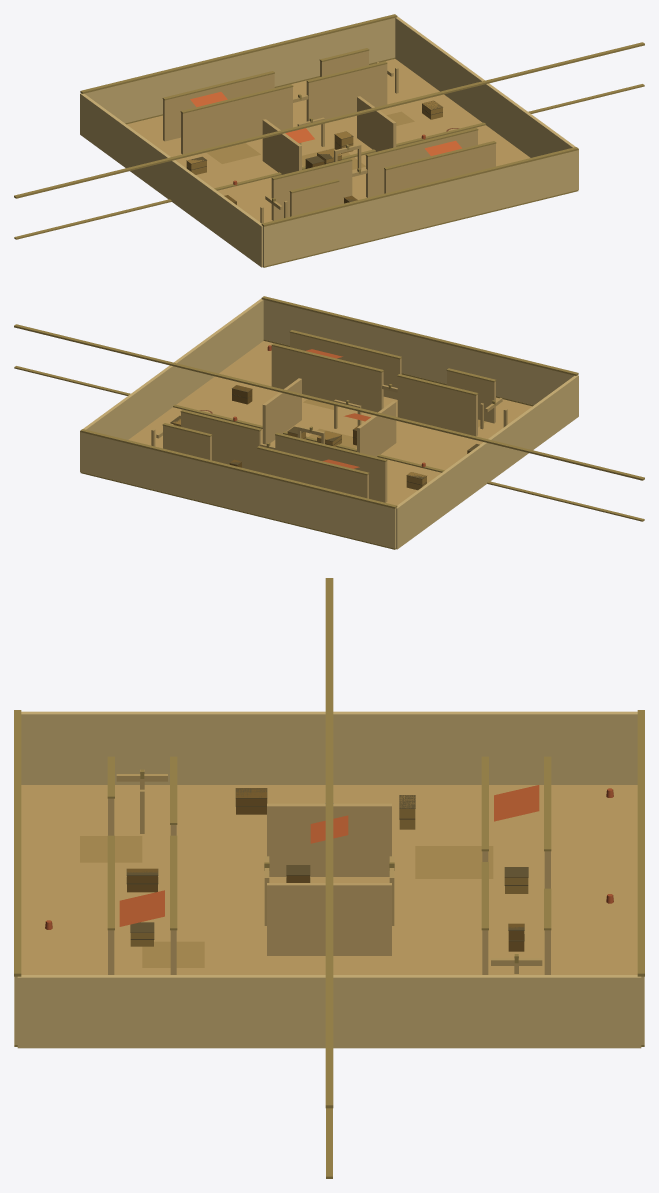
The model's file is dust_alley.glb.
The picture shows the model from 3 angles, top to bottom: view 1: azimuth 30°, elevation 25°; view 2: azimuth 150°, elevation 25°; view 3: azimuth 270°, elevation 25°; orthographic projection. The views are drawn at different scales.
Parts seen in each view (by area): view 1: wall_south, floor, wall_north, wall_west, wall_east, nalley_s_w, nalley_s_e, salley_s_e, salley_n_w, salley_n_e, nalley_n_w, center_w (+15 smaller); view 2: wall_north, floor, wall_south, wall_west, wall_east, salley_n_e, salley_n_w, nalley_n_w, nalley_s_e, nalley_s_w, salley_s_e, center_e (+14 smaller); view 3: floor, wall_east, wall_west, center_e, center_w, wall_east_trim, floor_patch_-8_-8, wall_west_trim, wall_north_trim, wall_south_trim, floor_patch_-10_14, floor_patch_6_10 (+2 smaller).
Boxes of the visible parts, x1,y1,x2,y2 form: wall_south: (263,150,578,266); floor: (126,59,530,222); wall_north: (85,18,395,123); wall_west: (80,93,262,267); wall_east: (395,16,578,189); nalley_s_w: (181,87,292,154); nalley_s_e: (306,64,387,121); salley_s_e: (384,143,495,193); salley_n_w: (271,161,352,220); salley_n_e: (366,130,477,197); nalley_n_w: (163,74,274,141); center_w: (262,119,301,174); wall_north: (80,432,395,548); floor: (128,341,532,505); wall_south: (263,300,573,405); wall_west: (396,375,578,549); wall_east: (80,298,263,471); salley_n_e: (271,346,383,412); salley_n_w: (397,377,477,436); nalley_n_w: (257,448,368,498); nalley_s_e: (181,412,261,471); nalley_s_w: (275,435,387,502); salley_s_e: (290,333,401,399); center_e: (262,378,301,444); floor: (21,785,637,974); wall_east: (17,975,641,1048); wall_west: (21,711,637,784); center_e: (267,883,391,955); center_w: (267,803,391,876); wall_east_trim: (325,842,333,1108); floor_patch_-8_-8: (415,846,493,878); wall_west_trim: (325,578,333,841); wall_north_trim: (637,710,644,976); wall_south_trim: (14,710,21,976); floor_patch_-10_14: (80,836,142,862); floor_patch_6_10: (142,941,204,967).
Bounding box in the file's own units: 80.05 × 5.2 × 40.48.
